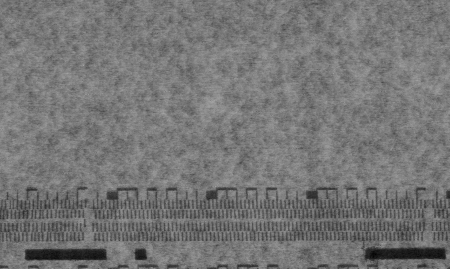Oblique printing: (2, 198, 94, 241)
